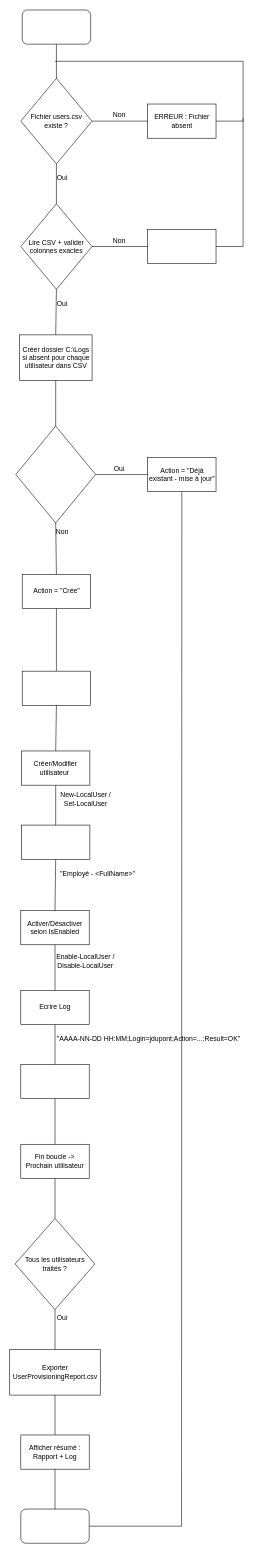
Image size: 254x1553. Some labels were removed from this diagram. The centre of each missing label's shape, as x and y in pixels:
Ajouter ligne au rapport CSV: (54,1081)
Début: (56,26)
Définir description standard: (55,842)
ERREUR : Colonnes incorrectes: (181,246)
Fin: (54,1526)
Si DryRun -> Simuler seulement: (56,688)
Utilisateur existe déjà ? (Get-LocalUser): (55,474)
